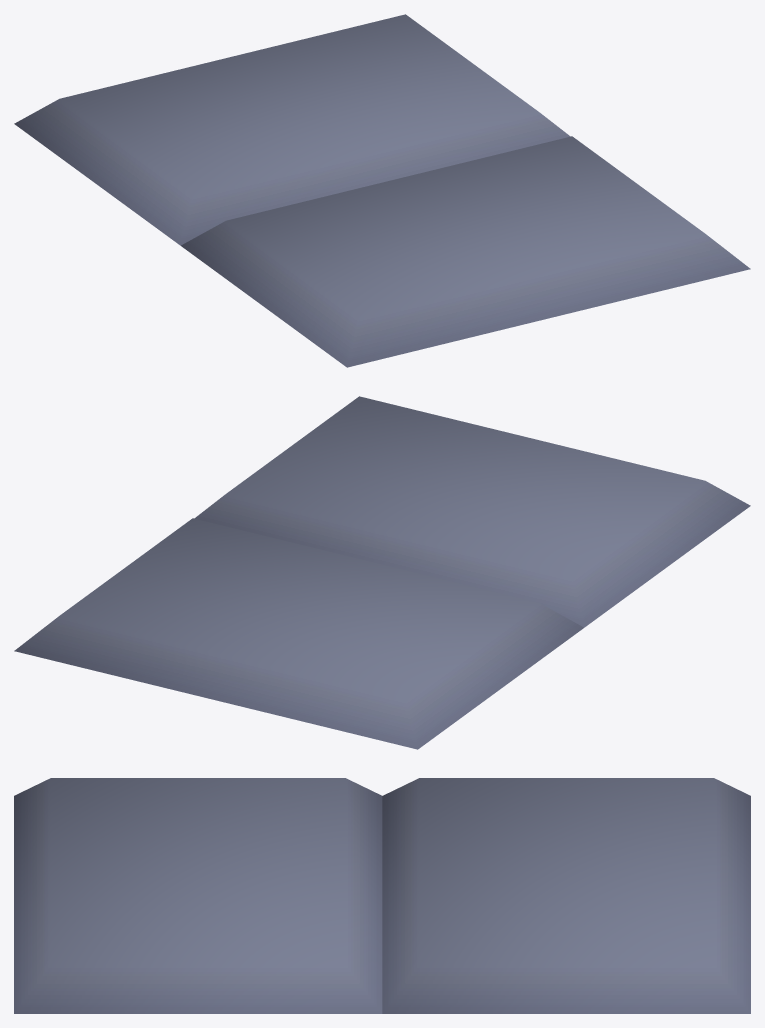
The model's file is path-stones-short.glb.
The picture shows the model from 3 angles, top to bottom: view 1: azimuth 30°, elevation 25°; view 2: azimuth 150°, elevation 25°; view 3: azimuth 270°, elevation 25°; orthographic projection. The views are drawn at different scales.
Visible parts, largest first — view 1: path-stones-short; view 2: path-stones-short; view 3: path-stones-short.
Part boxes in pixels (x1,y1,x2,y2): path-stones-short: (14,14,750,367); path-stones-short: (14,396,750,749); path-stones-short: (14,778,750,1013).
Bounding box in the file's own units: 0.14 × 0.01 × 0.2.
1 material, 1 textured.
